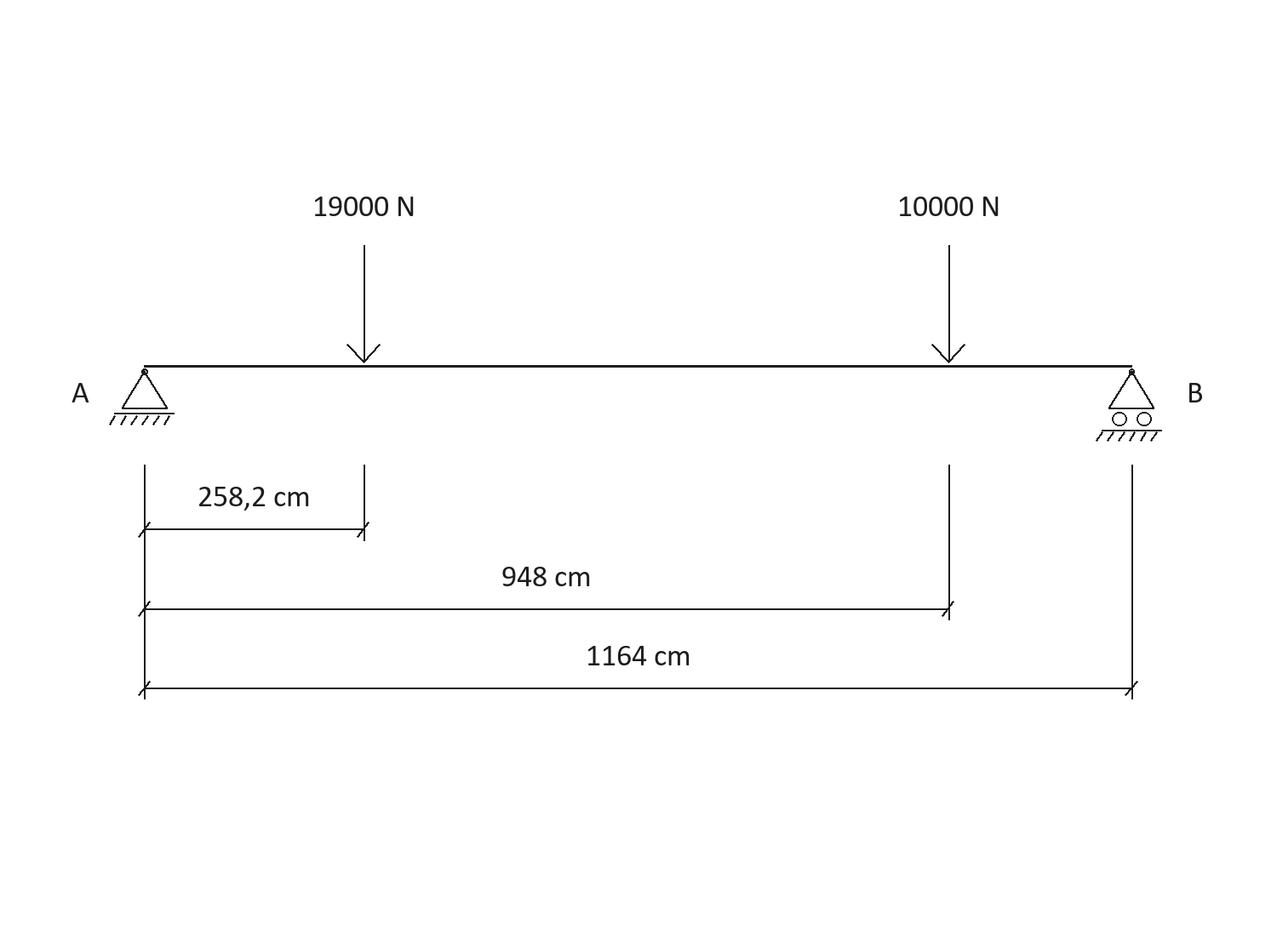pin_support: (109, 368, 175, 425)
point_load: (346, 245, 381, 363), (931, 245, 965, 363)
roller_support: (1096, 368, 1162, 442)
